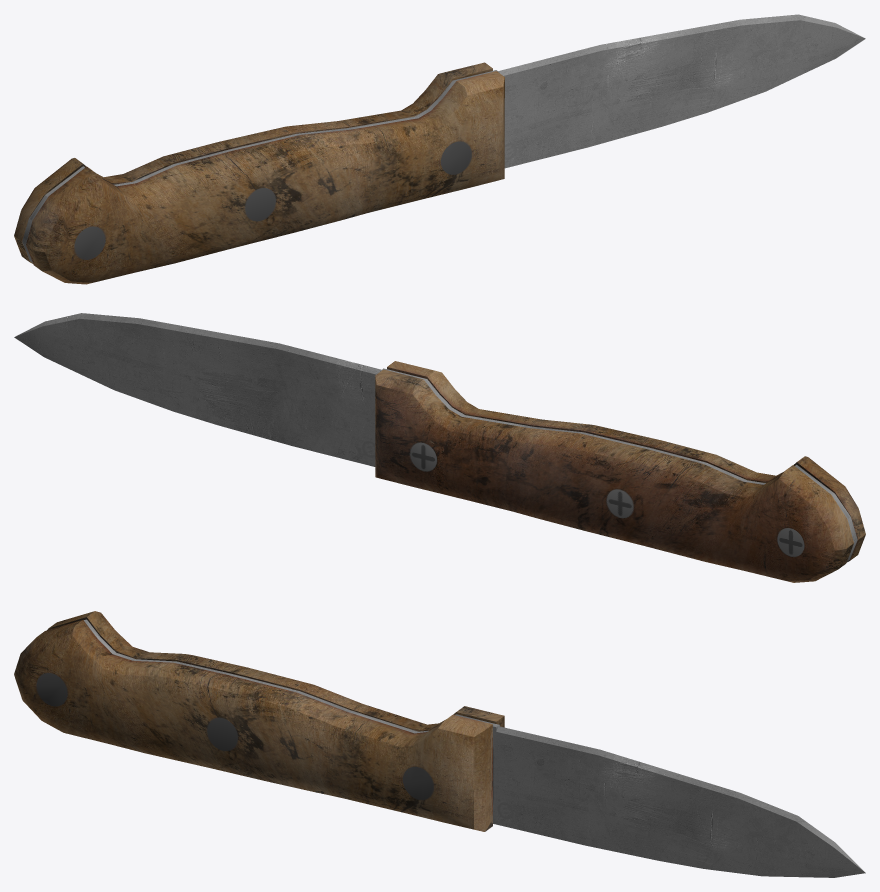
Rendered from knife.obj.
3 renders of one model, top to bottom at view 1: azimuth 30°, elevation 25°; view 2: azimuth 150°, elevation 25°; view 3: azimuth 330°, elevation 25°, orthographic.
Parts seen in each view (by area): view 1: Low_Bottom_meshId1_name, Low_Knife_meshId0_name; view 2: Low_Bottom_meshId1_name, Low_Knife_meshId0_name; view 3: Low_Bottom_meshId1_name, Low_Knife_meshId0_name.
Boxes of the visible parts, <box> form: Low_Bottom_meshId1_name: <box>14,62,504,284</box>; Low_Knife_meshId0_name: <box>22,14,865,262</box>; Low_Bottom_meshId1_name: <box>375,361,865,582</box>; Low_Knife_meshId0_name: <box>14,313,857,561</box>; Low_Bottom_meshId1_name: <box>14,611,504,831</box>; Low_Knife_meshId0_name: <box>84,619,865,877</box>.
Size of the model in its own units: 0.3 by 0.0374 by 0.0234.
Materials: 1 (1 with a texture image).
